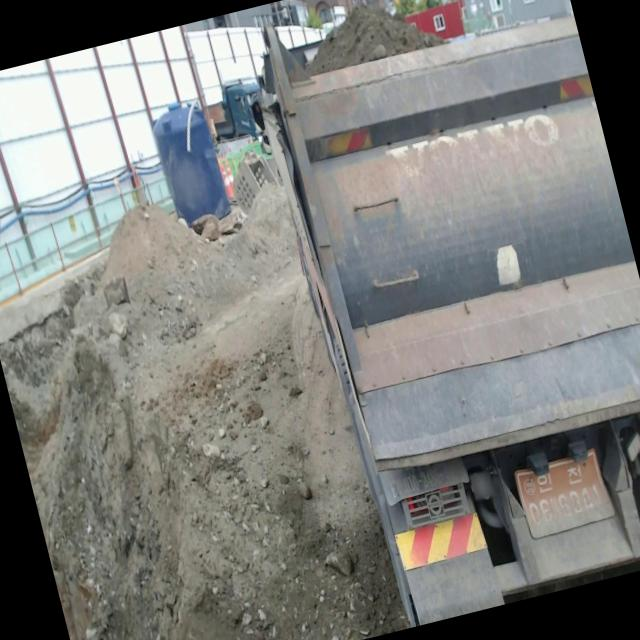red-sand: (28, 189, 407, 640), (304, 5, 445, 75)
